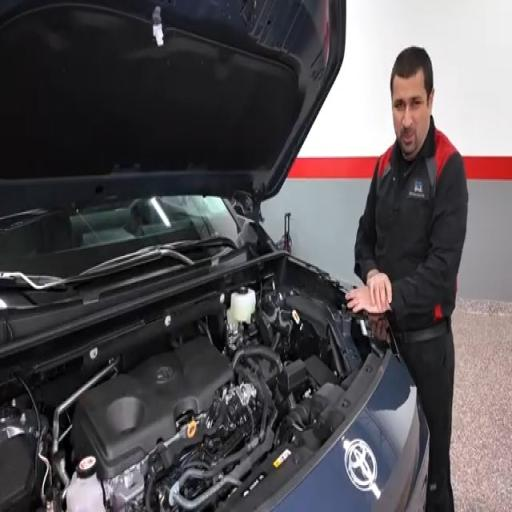bumper: (274, 357, 429, 511)
emblem: (345, 440, 377, 492), (156, 367, 173, 383)
hood: (0, 0, 345, 213)
window: (0, 195, 238, 274)
windshield: (0, 195, 238, 277)
